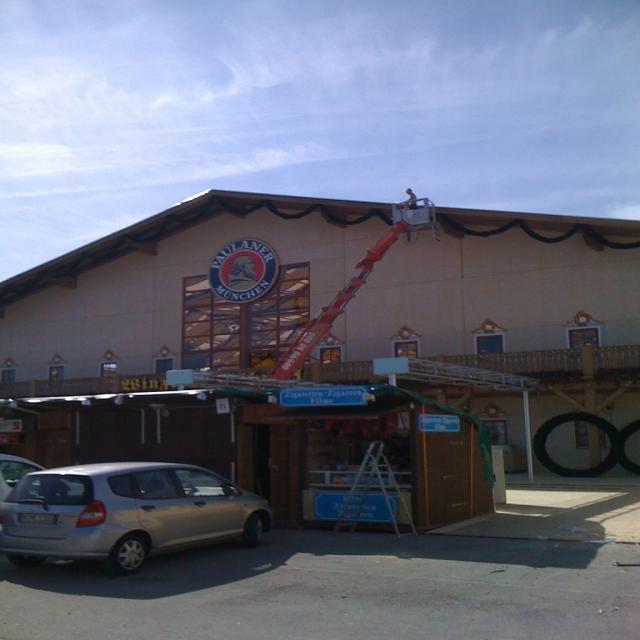paulaner: (208, 239, 279, 303)
